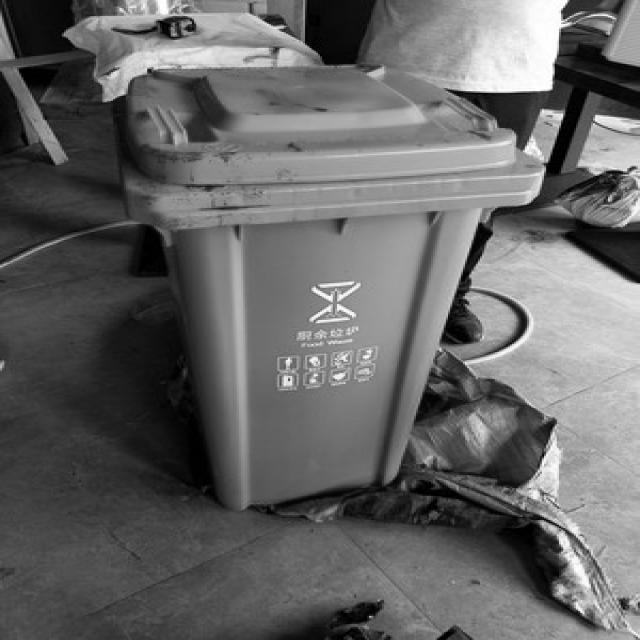ash bin: (113, 59, 538, 510)
